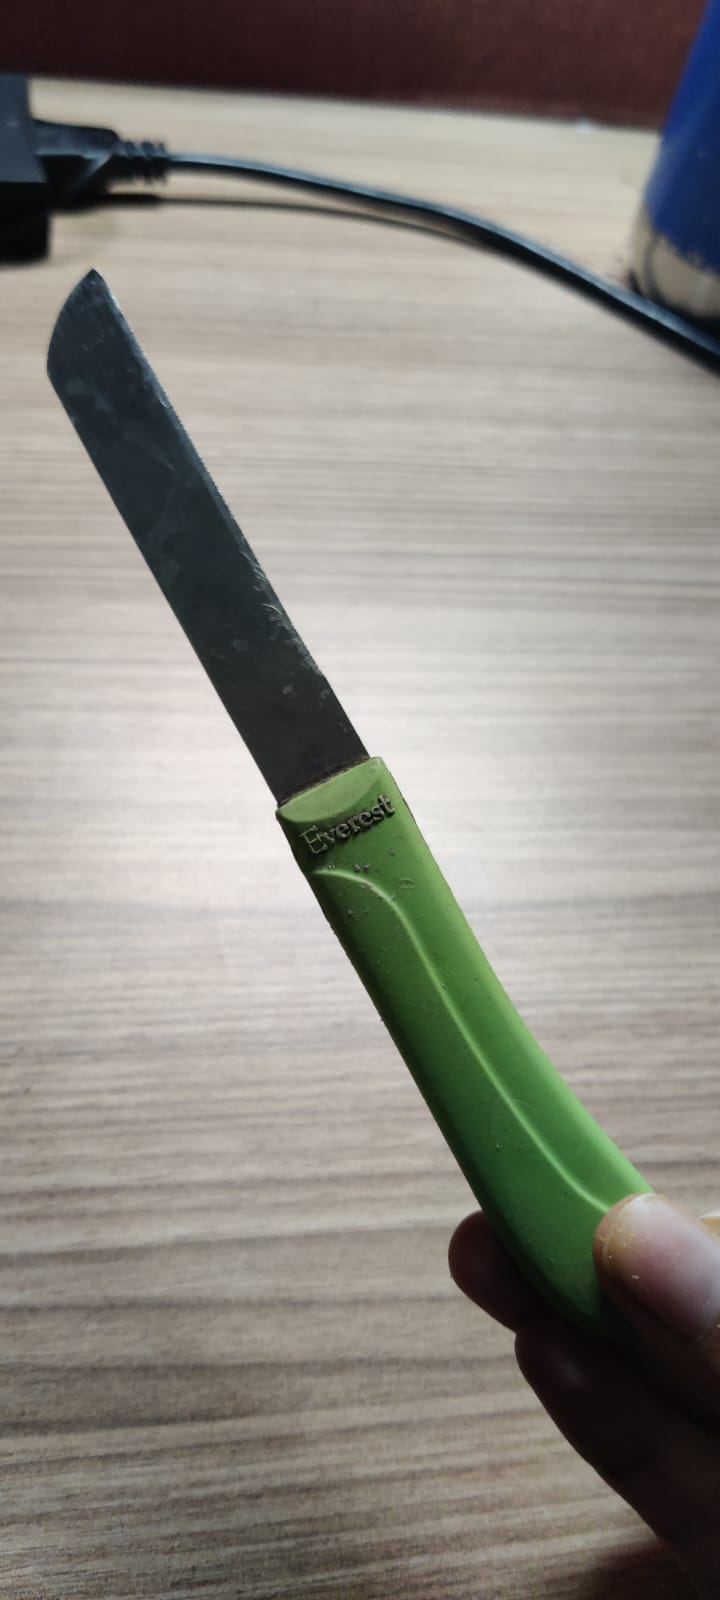knife: (41, 264, 658, 1291)
